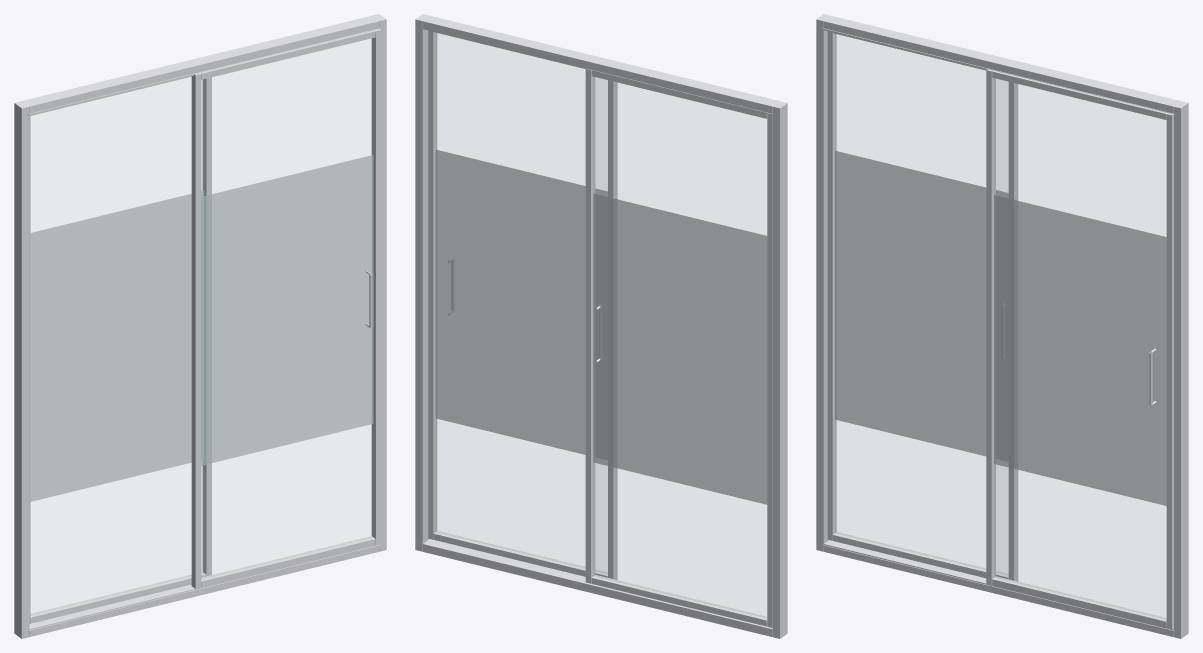
The model's file is white-frame-privacy-band-shower-enclosure-02.glb.
3 views of the same model, side by side, from view 1: azimuth 30°, elevation 25°; view 2: azimuth 150°, elevation 25°; view 3: azimuth 330°, elevation 25° (orthographic).
Parts seen in each view (by area): view 1: Sliding right pane privacy band, Fixed left pane privacy band, Perimeter jamb, Sliding right pane upper clear, Sliding right pane lower clear, Fixed left pane upper clear, Fixed left pane lower clear, Sliding right pane frame, Fixed left pane frame, Twin running tracks; view 2: Fixed left pane privacy band, Sliding right pane privacy band, Perimeter jamb, Fixed left pane upper clear, Fixed left pane lower clear, Sliding right pane upper clear, Sliding right pane lower clear, Fixed left pane frame, Sliding right pane frame; view 3: Sliding right pane privacy band, Fixed left pane privacy band, Perimeter jamb, Sliding right pane upper clear, Sliding right pane lower clear, Fixed left pane upper clear, Fixed left pane lower clear, Sliding right pane frame, Fixed left pane frame, Twin running tracks.
Part boxes in pixels (x1,y1,x2,y2): Sliding right pane privacy band: (201,155,373,465); Fixed left pane privacy band: (30,191,204,501); Perimeter jamb: (14,14,386,638); Sliding right pane upper clear: (202,39,372,195); Sliding right pane lower clear: (202,424,372,578); Fixed left pane upper clear: (31,77,190,231); Fixed left pane lower clear: (31,463,190,614); Sliding right pane frame: (191,29,381,588); Fixed left pane frame: (29,76,211,623); Twin running tracks: (28,28,380,632); Fixed left pane privacy band: (593,193,767,504); Sliding right pane privacy band: (435,149,607,459); Perimeter jamb: (415,14,787,638); Fixed left pane upper clear: (594,77,766,234); Fixed left pane lower clear: (594,463,766,617); Sliding right pane upper clear: (436,33,584,184); Sliding right pane lower clear: (436,419,584,567); Fixed left pane frame: (585,68,772,627); Sliding right pane frame: (428,30,617,579); Sliding right pane privacy band: (994,195,1166,505); Fixed left pane privacy band: (835,150,1008,460); Perimeter jamb: (816,14,1188,638); Sliding right pane upper clear: (994,79,1165,235); Sliding right pane lower clear: (994,464,1165,618); Fixed left pane upper clear: (835,34,985,186); Fixed left pane lower clear: (835,420,985,569); Sliding right pane frame: (986,69,1173,628); Fixed left pane frame: (827,31,1018,581); Twin running tracks: (822,28,1174,632).
Size of the model in its own units: 1.45 by 2.02 by 0.115.
